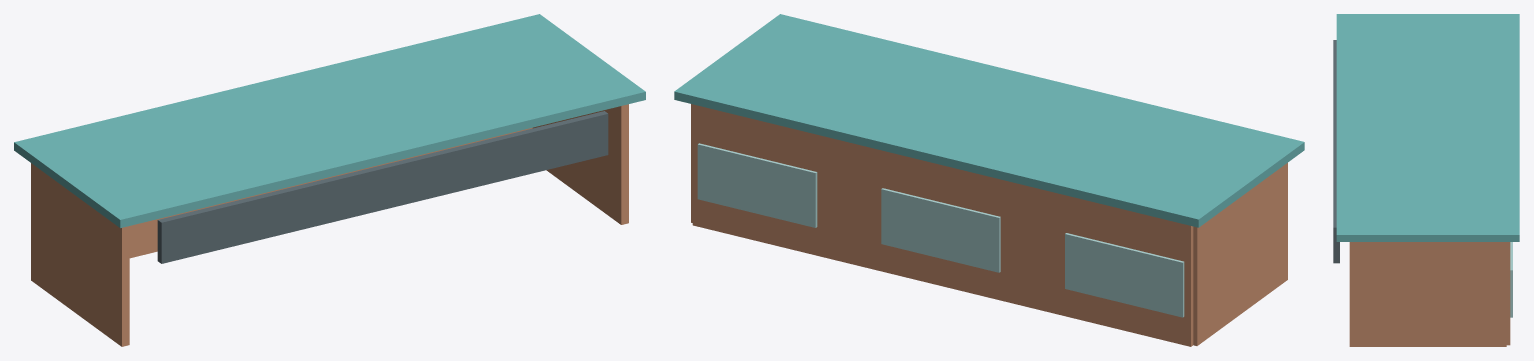
Rendered from WorkshopOffice.glb.
The picture shows the model from 3 angles, left to right: view 1: azimuth 30°, elevation 25°; view 2: azimuth 150°, elevation 25°; view 3: azimuth 270°, elevation 25°; orthographic projection. The views are drawn at different scales.
Visible parts, largest first — view 1: WorkshopOffice_BackWall; view 2: WorkshopOffice_BackWall; view 3: WorkshopOffice_BackWall.
Part boxes in pixels (<box>): WorkshopOffice_BackWall: <box>14,14,645,346</box>; WorkshopOffice_BackWall: <box>674,14,1304,346</box>; WorkshopOffice_BackWall: <box>1333,14,1519,346</box>.
Size of the model in its own units: 40 by 9.8 by 14.25.
